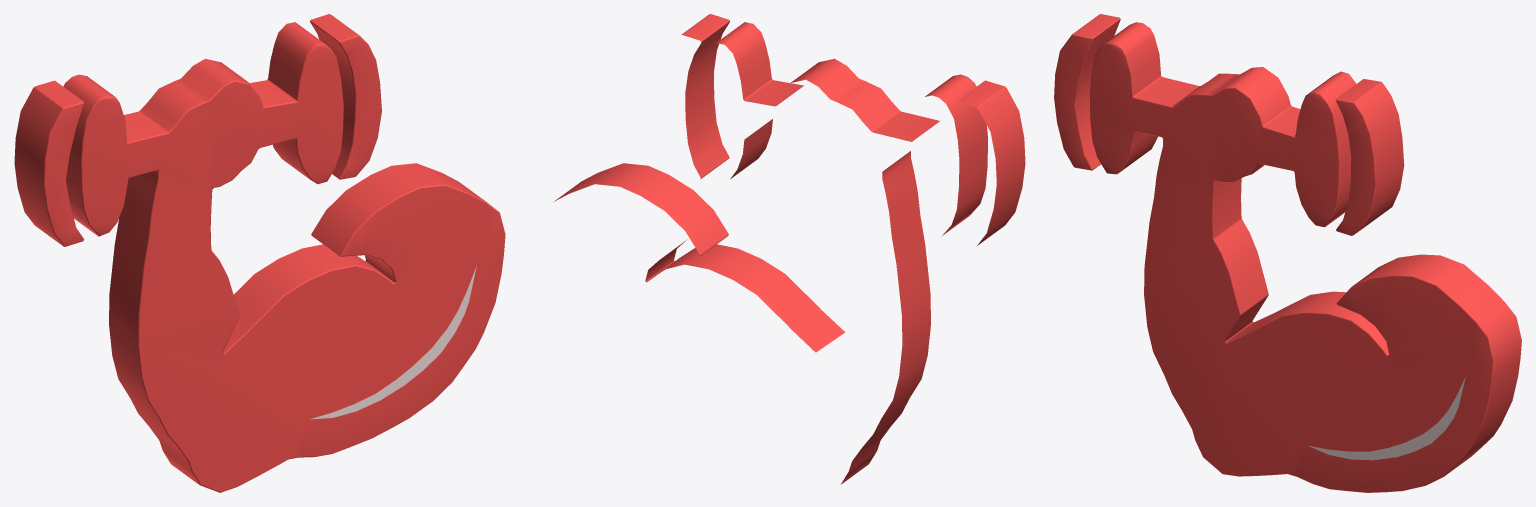
Rendered from Public_18_Gym_Sign_2.glb.
The picture shows the model from 3 angles, left to right: view 1: azimuth 30°, elevation 25°; view 2: azimuth 150°, elevation 25°; view 3: azimuth 330°, elevation 25°; orthographic projection. The views are drawn at different scales.
Parts seen in each view (by area): view 1: Public_18_Gym_Sign_2; view 2: Public_18_Gym_Sign_2; view 3: Public_18_Gym_Sign_2.
Part boxes in pixels (x1,y1,x2,y2): Public_18_Gym_Sign_2: (14, 14, 505, 492); Public_18_Gym_Sign_2: (554, 14, 1025, 484); Public_18_Gym_Sign_2: (1054, 14, 1521, 492).
Size of the model in its own units: 4.35 by 3.82 by 0.4798.
Materials: 1 (1 with a texture image).
